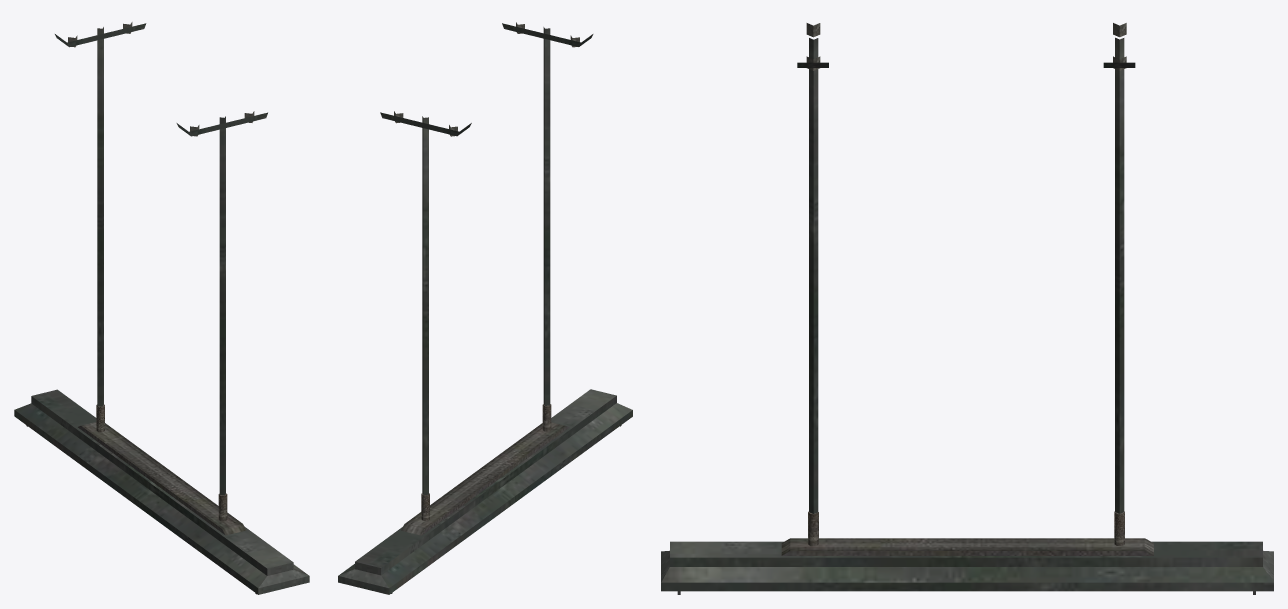
Rendered from lab_flourescentlight001a.glb.
3 renders of one model, left to right at view 1: azimuth 30°, elevation 25°; view 2: azimuth 150°, elevation 25°; view 3: azimuth 270°, elevation 25°, orthographic. The views are drawn at different scales.
Parts seen in each view (by area): view 1: 0_prison_objects004_on; view 2: 0_prison_objects004_on; view 3: 0_prison_objects004_on.
Part boxes in pixels (x1,y1,x2,y2): 0_prison_objects004_on: (14,22,309,594); 0_prison_objects004_on: (338,22,632,594); 0_prison_objects004_on: (661,23,1273,594).
Size of the model in its own units: 0.3161 by 1.65 by 1.68.
1 material, 1 textured.
